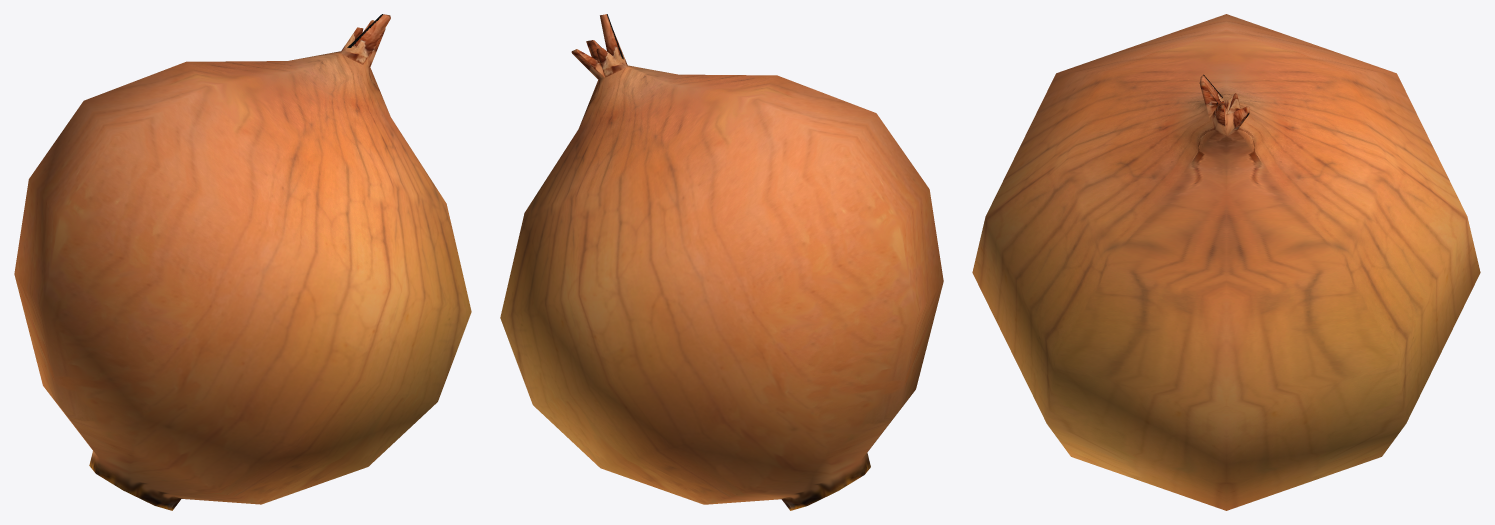
File: onion.fbx
3 views of the same model, side by side, from view 1: azimuth 30°, elevation 25°; view 2: azimuth 150°, elevation 25°; view 3: azimuth 270°, elevation 25° (orthographic). The views are drawn at different scales.
Visible parts, largest first — view 1: Onion; view 2: Onion; view 3: Onion.
Part boxes in pixels (<box>): Onion: <box>14,14,471,510</box>; Onion: <box>500,14,943,510</box>; Onion: <box>972,14,1480,510</box>.
Size of the model in its own units: 14.64 by 15.69 by 14.95.
Materials: 1 (1 with a texture image).
